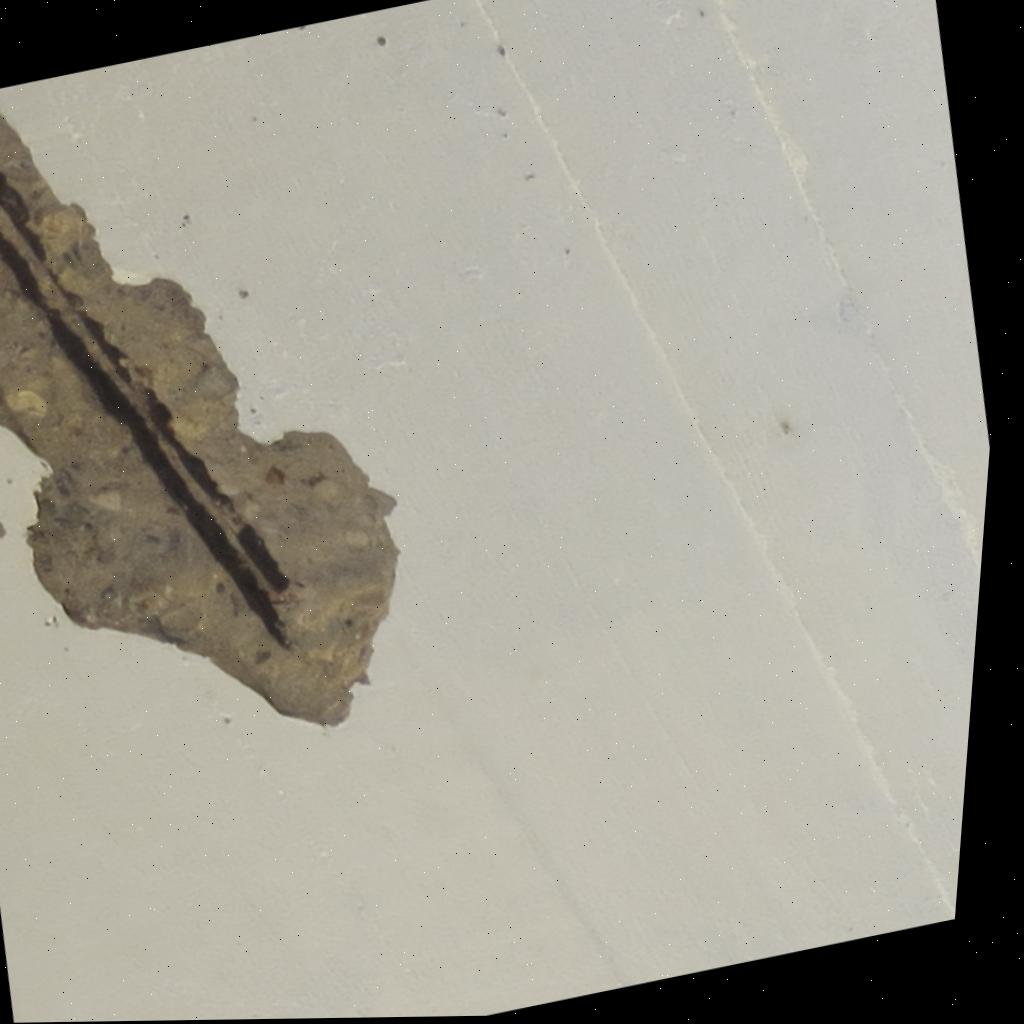exposed_rebar: (0, 232, 287, 645), (149, 388, 289, 592), (0, 172, 45, 265), (78, 310, 131, 384), (47, 270, 85, 309)
spalling: (0, 112, 398, 724)
